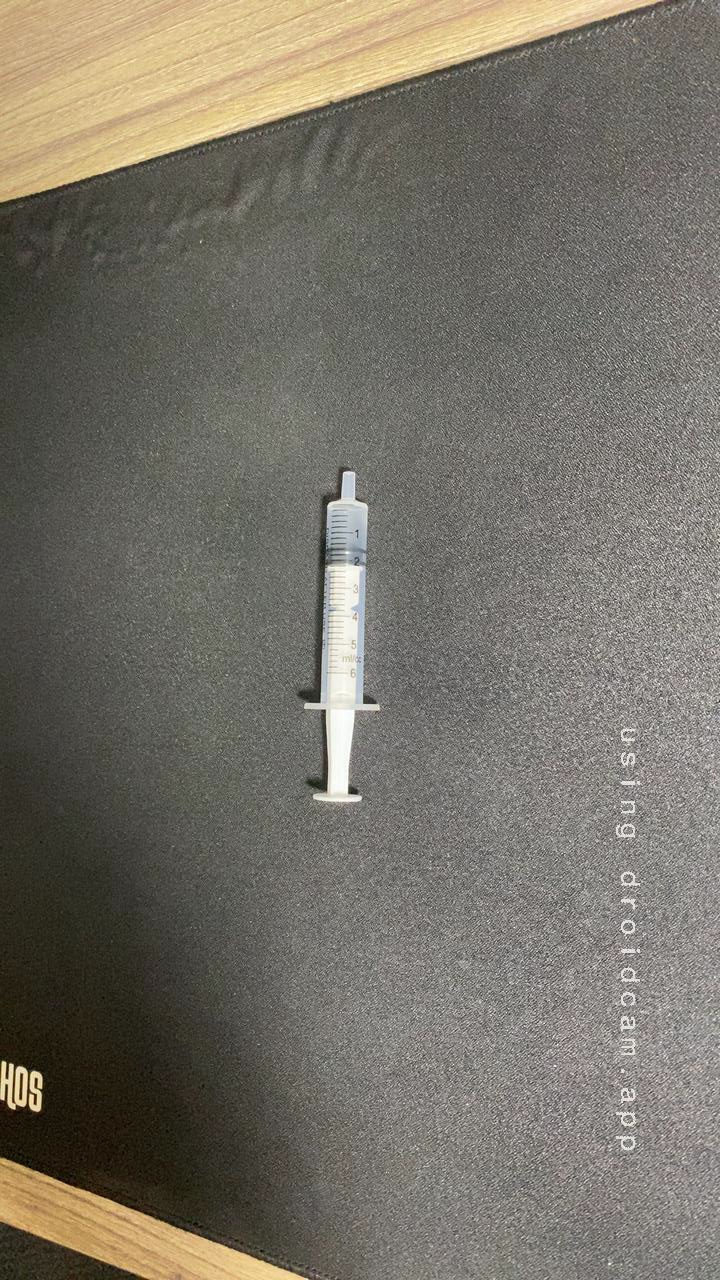syringe: (268, 456, 429, 832)
